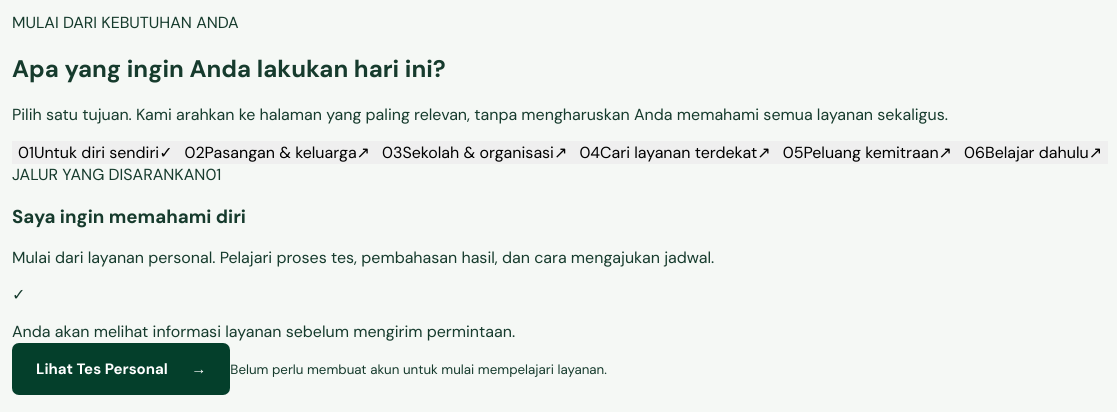
Test case: visitor path finder › memberikan jalur terpisah untuk calon promotor
Click the button "05Peluang kemitraan↗" at (867, 152), box [777,141,958,164]
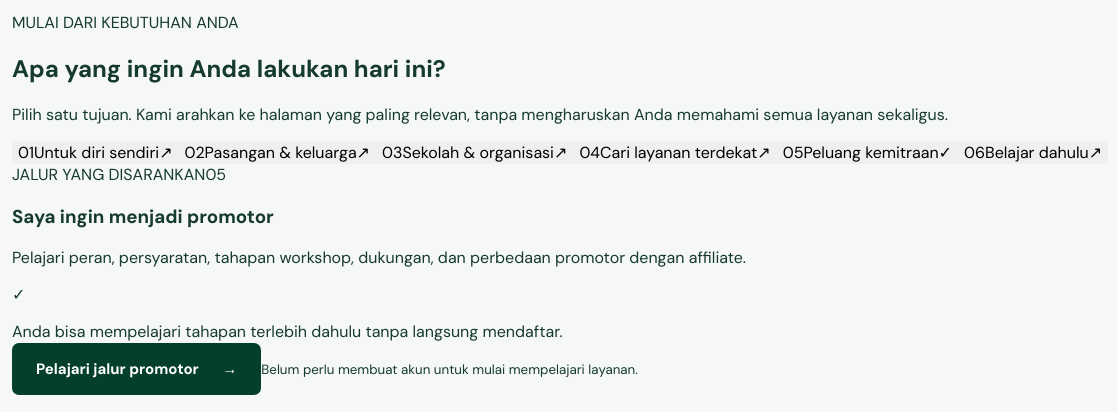
Result: the heading "Saya ingin menjadi promotor" is shown at [12,204,274,228]
